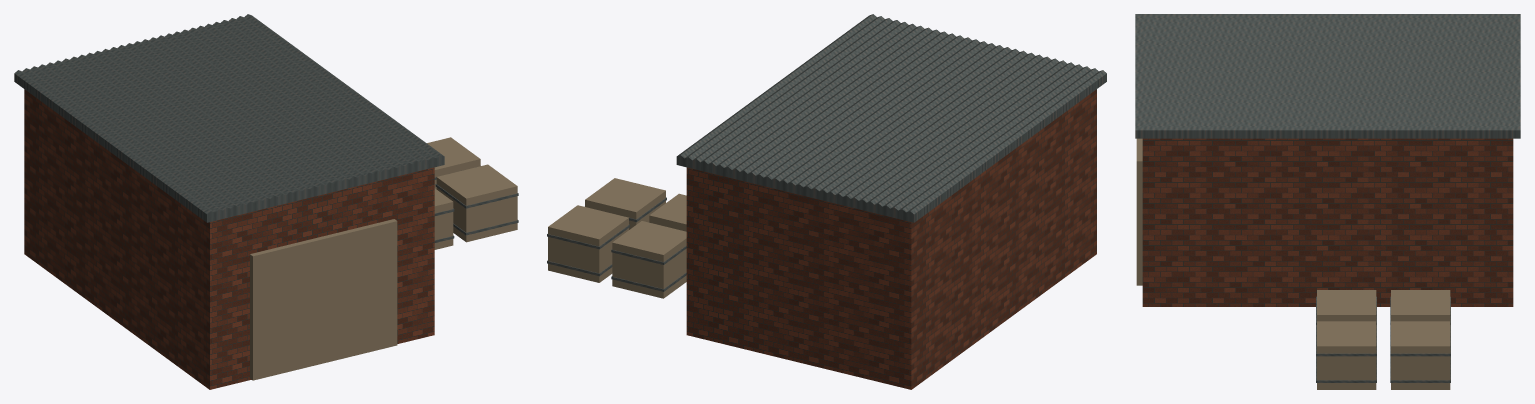
File: haulage.glb
The picture shows the model from 3 angles, left to right: view 1: azimuth 30°, elevation 25°; view 2: azimuth 150°, elevation 25°; view 3: azimuth 270°, elevation 25°; orthographic projection.
Visible parts, largest first — view 1: cargo shed, cargo corrugated roof, loading gate; view 2: cargo shed, cargo corrugated roof, loading gate; view 3: cargo shed, cargo corrugated roof, loading gate.
Boxes of the visible parts, x1,y1,x2,y2 form: cargo shed: [24, 89, 434, 389]; cargo corrugated roof: [14, 14, 518, 242]; loading gate: [250, 137, 517, 380]; cargo shed: [686, 89, 1096, 389]; cargo corrugated roof: [547, 14, 1106, 291]; loading gate: [548, 178, 686, 298]; cargo shed: [1142, 138, 1513, 306]; cargo corrugated roof: [1135, 14, 1520, 382]; loading gate: [1136, 138, 1450, 389].
Bounding box in the file's own units: 12.52 × 5.42 × 10.4.
3 materials, 2 textured.
